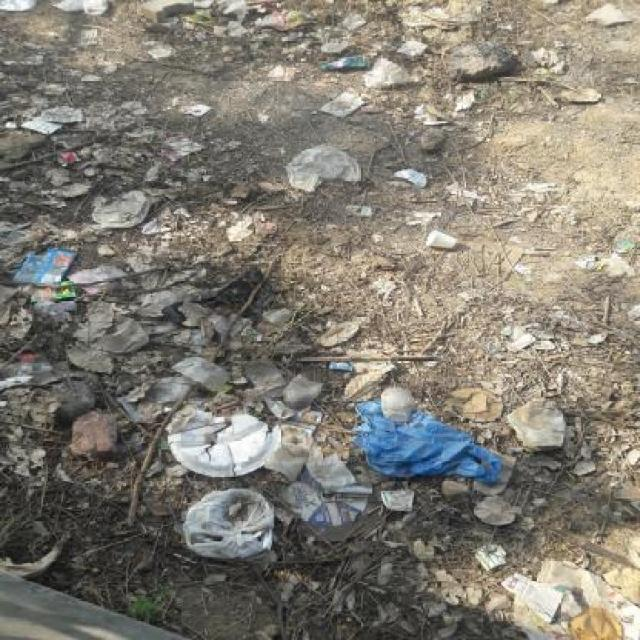garbage: (103, 365, 639, 589), (326, 31, 588, 164), (285, 142, 411, 258), (22, 228, 119, 354)
